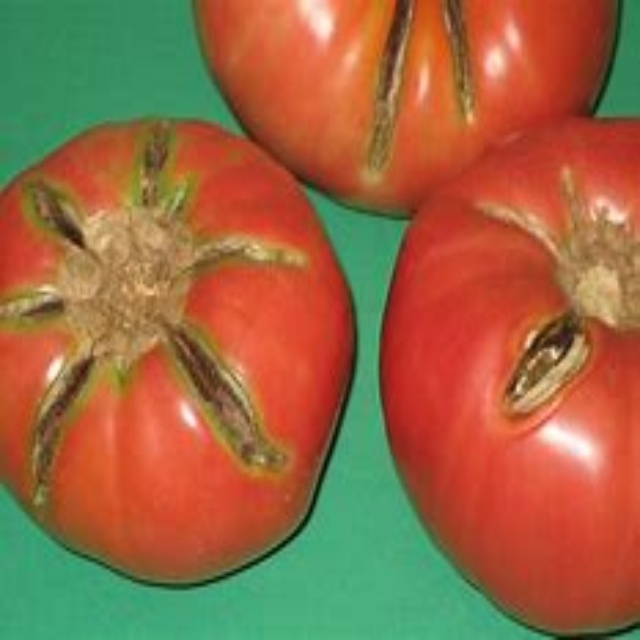tomato: (1, 118, 354, 586), (382, 113, 639, 637), (191, 2, 626, 222)
